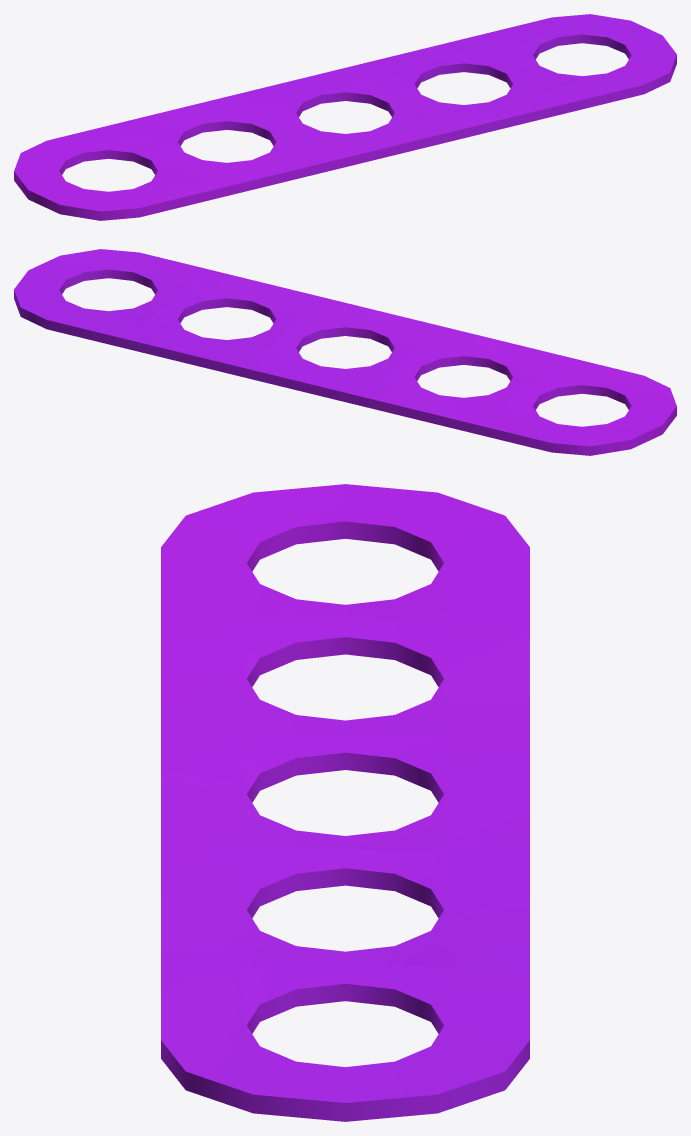
The model's file is FiveLongPink.fbx.
3 views of the same model, one above another, from view 1: azimuth 30°, elevation 25°; view 2: azimuth 150°, elevation 25°; view 3: azimuth 270°, elevation 25° (orthographic). The views are drawn at different scales.
Visible parts, largest first — view 1: Blue5; view 2: Blue5; view 3: Blue5.
Part boxes in pixels (x1,y1,x2,y2): Blue5: (14,14,676,220); Blue5: (14,249,676,455); Blue5: (161,484,529,1121).
Bounding box in the file's own units: 13.69 × 0.1942 × 3.45.
